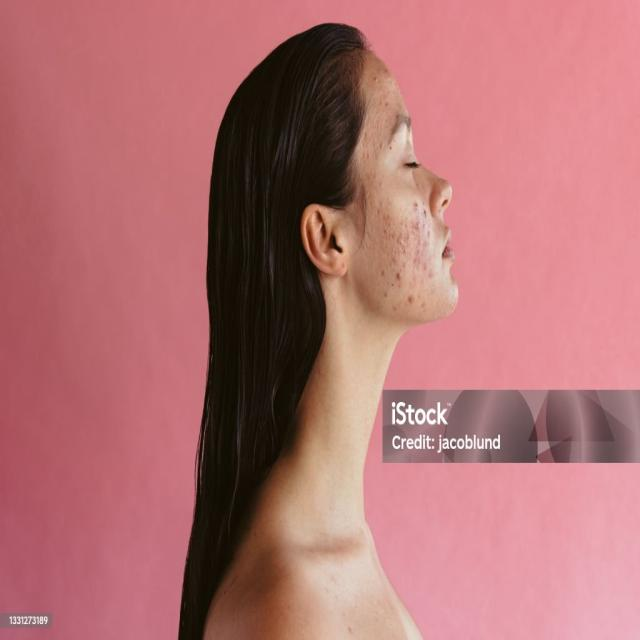acne: (364, 197, 439, 317), (374, 53, 405, 198)
